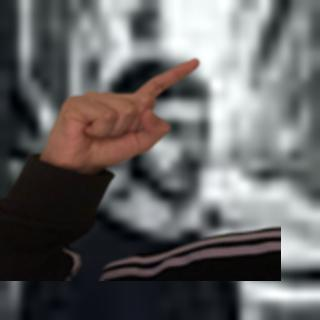WHY: (39, 51, 207, 171)
